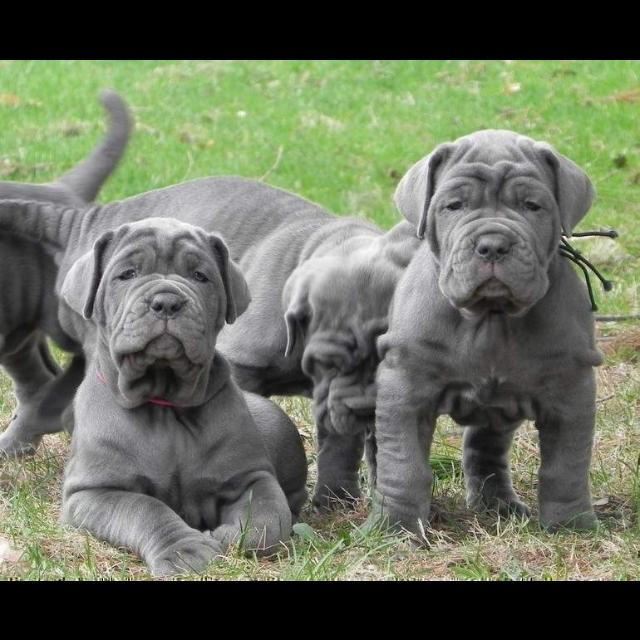mastino_napoletano: (2, 183, 423, 520), (351, 128, 620, 551), (53, 215, 309, 579), (2, 90, 139, 456)
